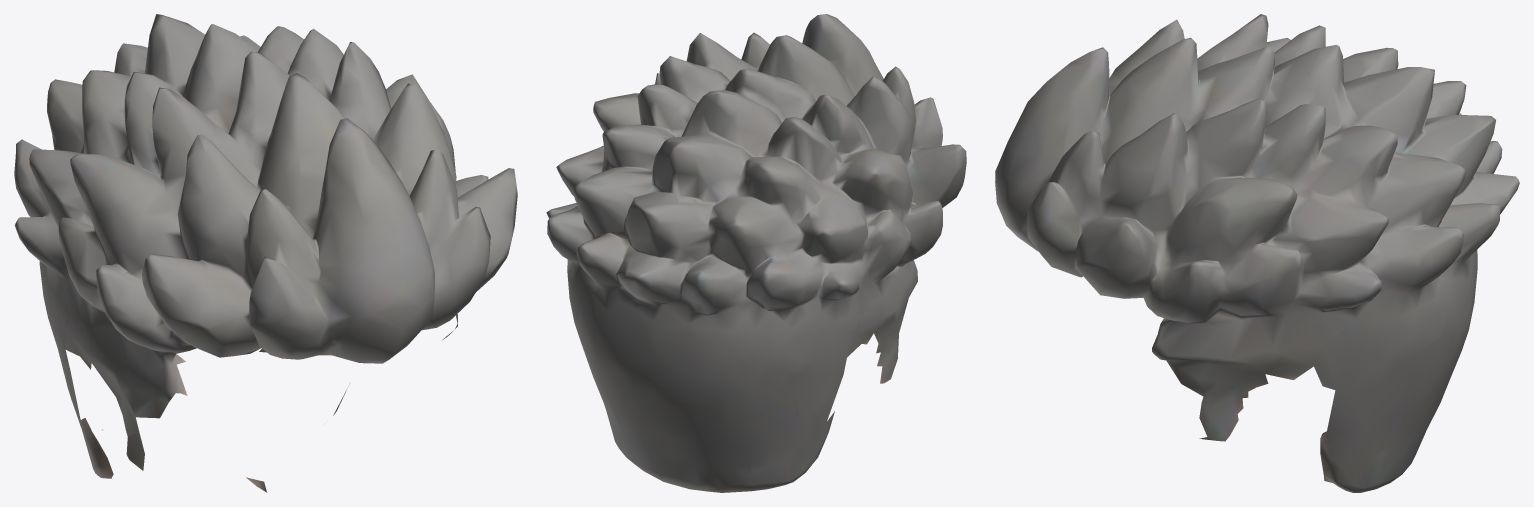
File: hair-m-spiky.glb
3 renders of one model, left to right at view 1: azimuth 30°, elevation 25°; view 2: azimuth 150°, elevation 25°; view 3: azimuth 270°, elevation 25°, orthographic. The views are drawn at different scales.
Visible parts, largest first — view 1: hair-m-spiky; view 2: hair-m-spiky; view 3: hair-m-spiky.
Boxes of the visible parts, box(x1,y1,x2,y2) form: hair-m-spiky: box(14, 14, 517, 492); hair-m-spiky: box(546, 14, 966, 492); hair-m-spiky: box(995, 14, 1519, 492).
Size of the model in its own units: 0.9431 by 1.06 by 1.2.
1 material, 1 textured.
